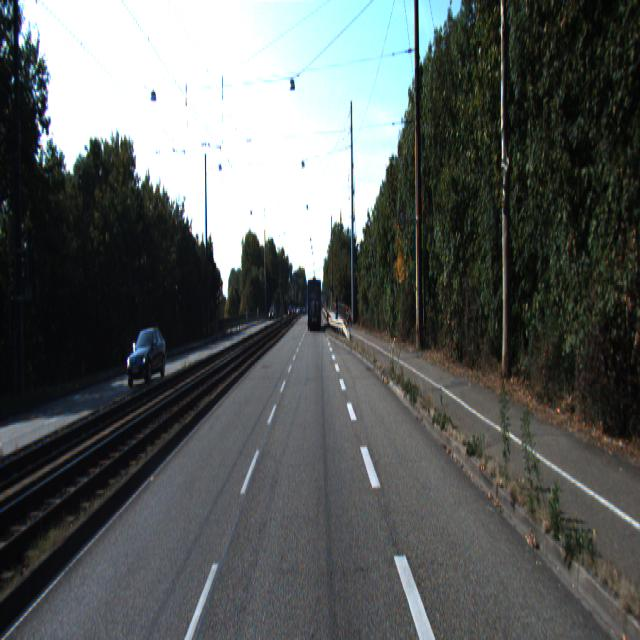Car: (127, 328, 168, 389), (307, 278, 322, 331)
